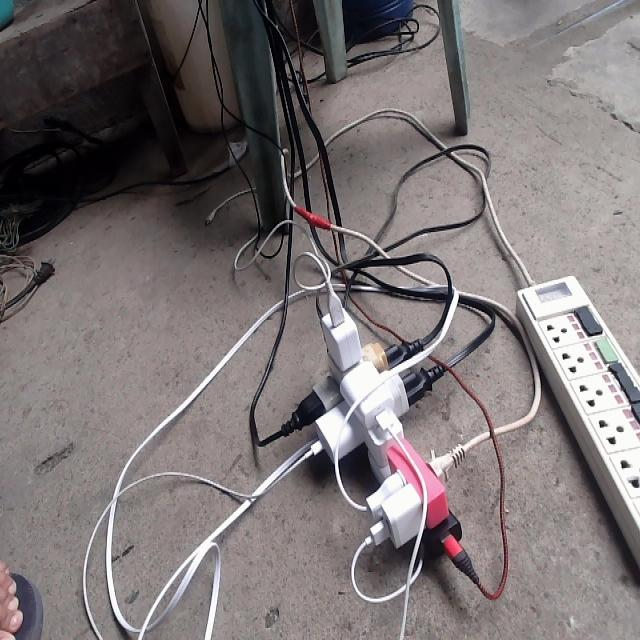-: (292, 296, 477, 563)
